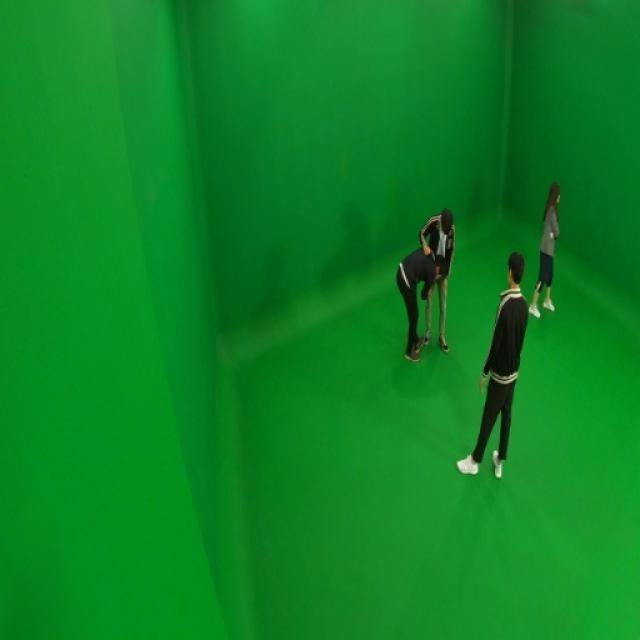non-violence: (456, 252, 530, 483), (526, 180, 562, 318)
violence: (396, 209, 454, 365)
